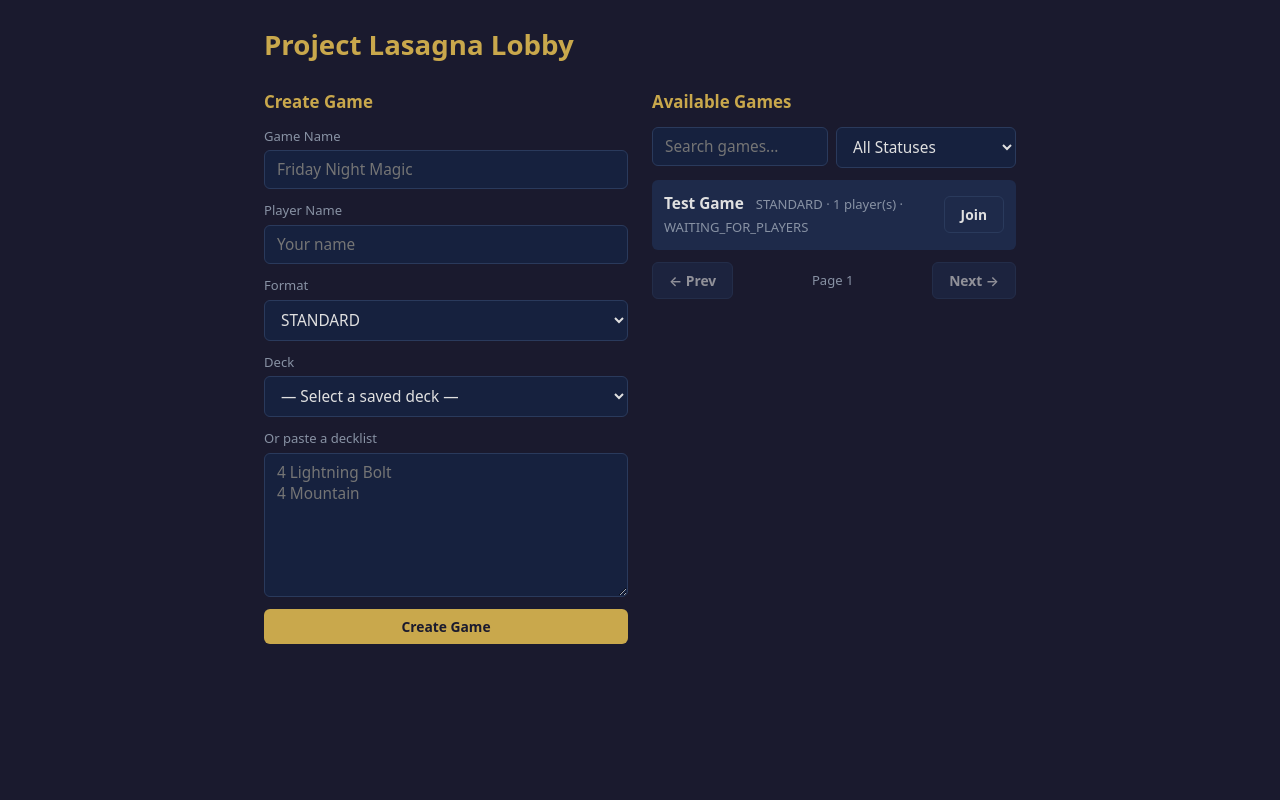
Test: LobbyPage › closes JoinGameDialog when close button clicked
The image size is (1280, 800).
What coordinates should you click on to do the following:
click the button "Join"
I would click on:
 (974, 215)
Its box is [944,196,1004,233].
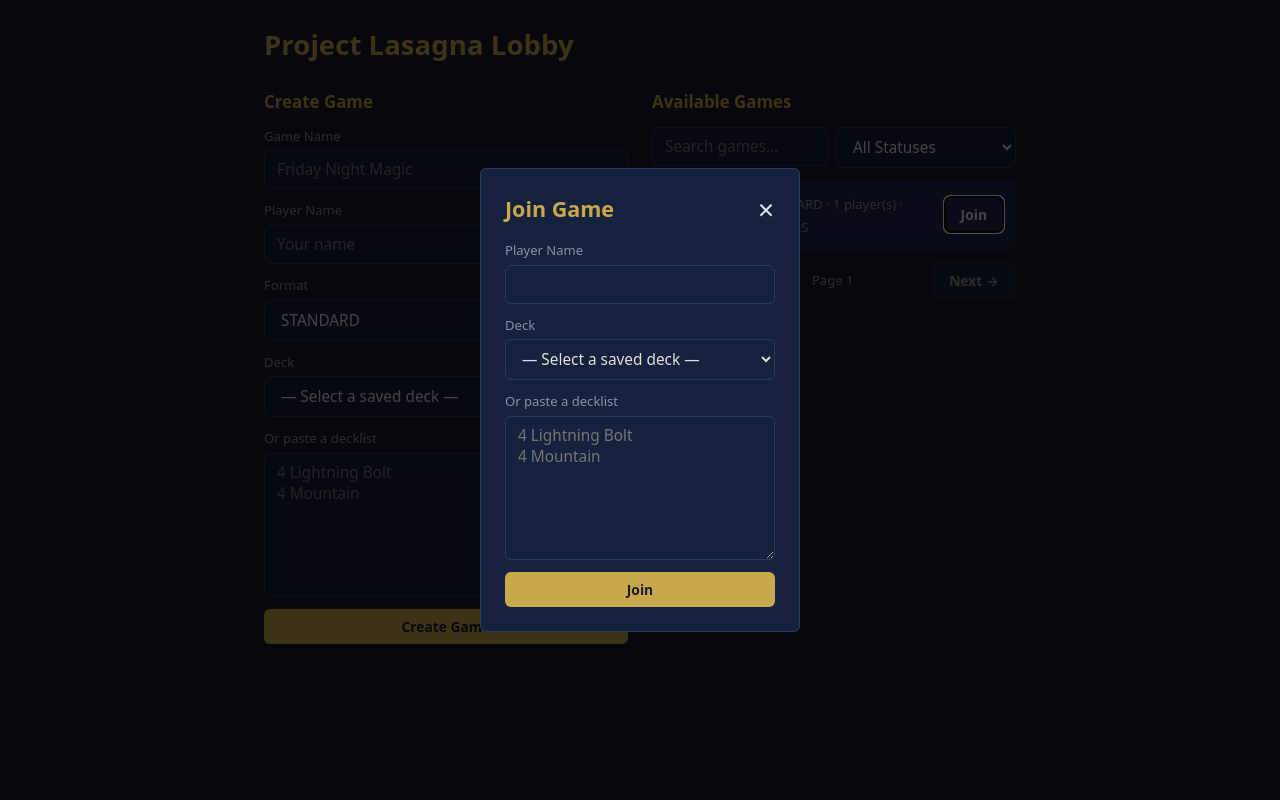
Expected: the dialog "Join Game ✕ Player Name Deck Or paste a decklist Join" is shown
What coordinates should you click on to do the following:
click the button named "Close"
I would click on:
 (766, 209)
Its box is [757,195,775,224].
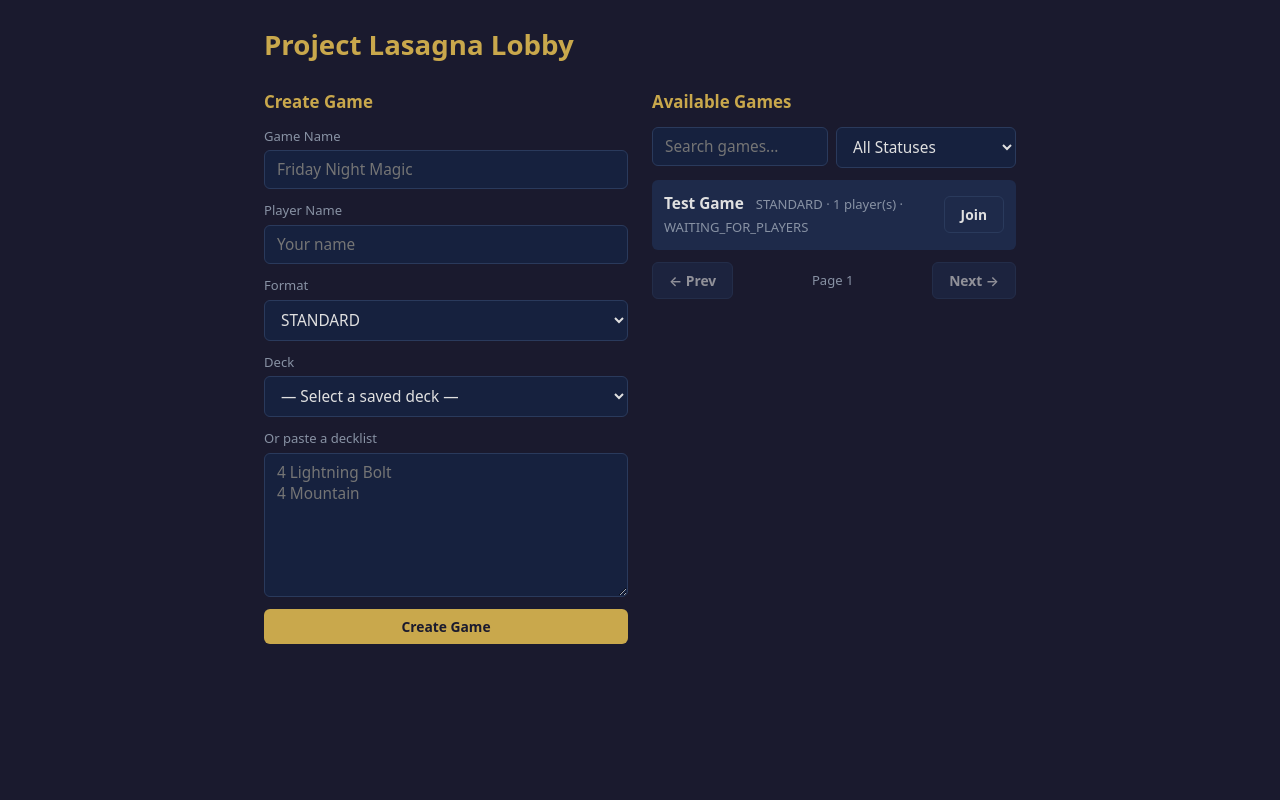
Expected: the dialog is gone
